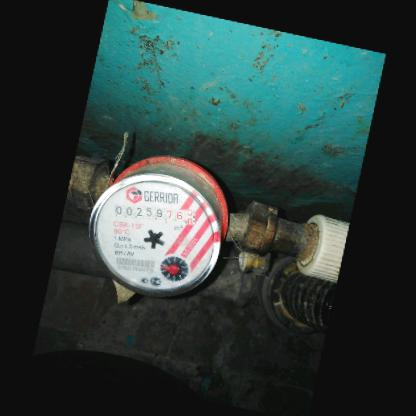digital_screen: (112, 203, 165, 223)
